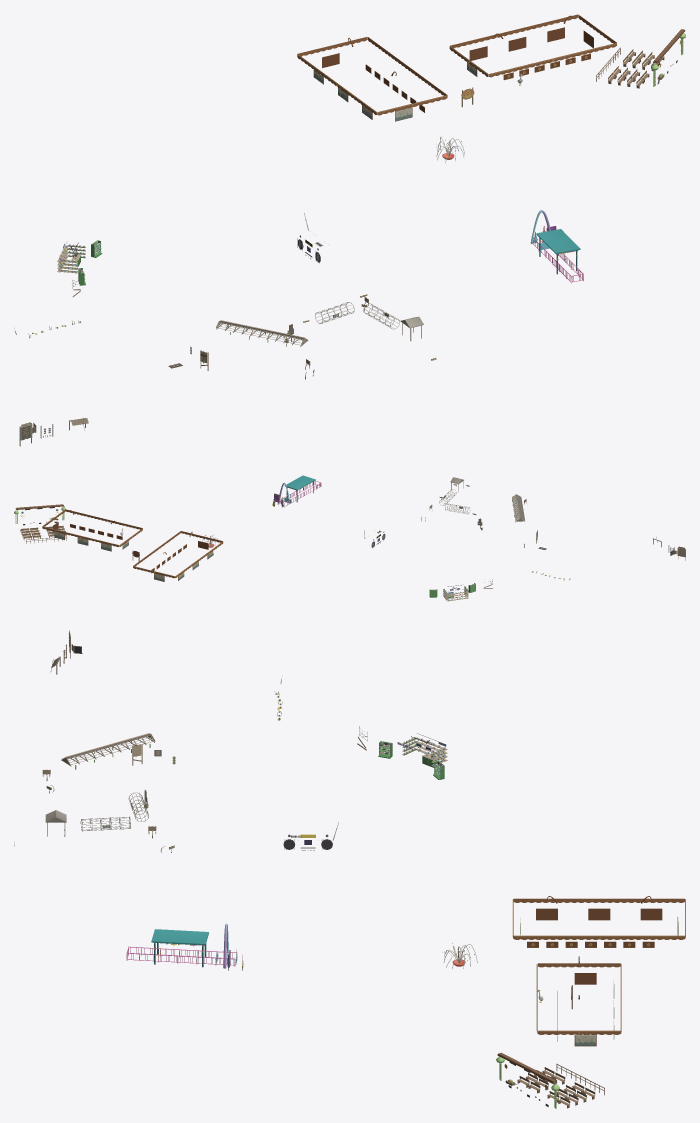
Rendered from dreamworks-detail.glb.
3 views of the same model, one above another, from view 1: azimuth 30°, elevation 25°; view 2: azimuth 150°, elevation 25°; view 3: azimuth 270°, elevation 25° (orthographic). The views are drawn at different scales.
Parts seen in each view (by area): view 1: dreamworks-detail-paint; view 2: dreamworks-detail-paint, dreamworks-detail-gloss; view 3: dreamworks-detail-paint, dreamworks-detail-gloss.
Boxes of the visible parts, <box> form: dreamworks-detail-paint: <box>19,14,685,446</box>; dreamworks-detail-paint: <box>15,475,685,601</box>; dreamworks-detail-gloss: <box>208,480,670,580</box>; dreamworks-detail-paint: <box>14,630,685,1108</box>; dreamworks-detail-gloss: <box>63,656,465,968</box>.
Bounding box in the file's own units: 138 × 9.78 × 83.69.
